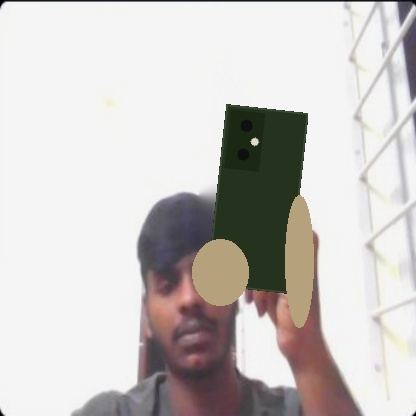cell_phone: (206, 104, 308, 294)
